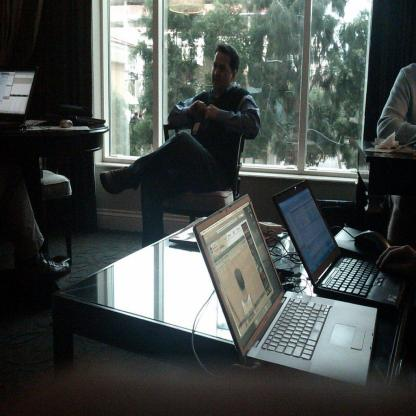board: (193, 192, 378, 388), (273, 180, 404, 307), (0, 66, 40, 127)
